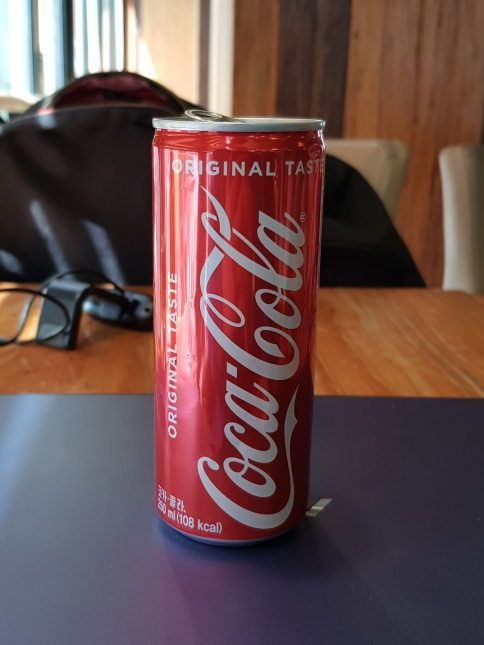Can: (145, 105, 330, 549)
